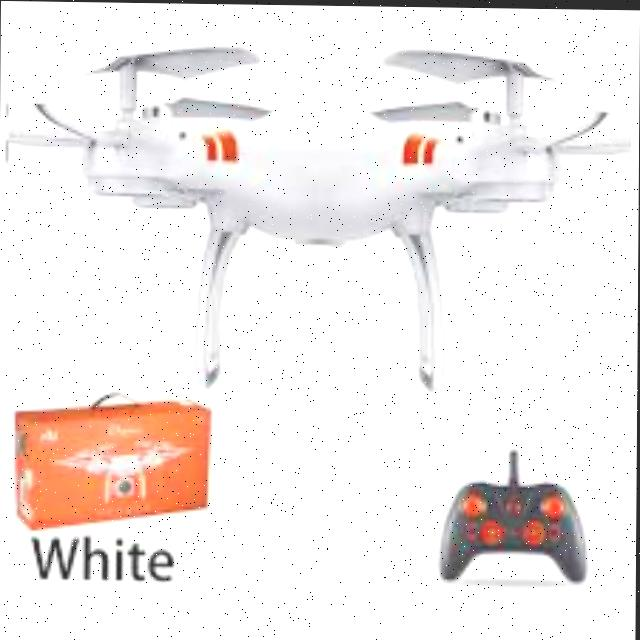drone: (0, 24, 640, 408)
